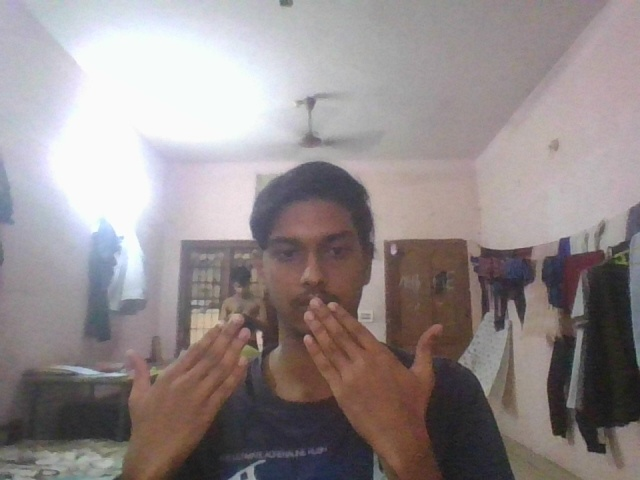thankyou: (125, 296, 444, 458)
